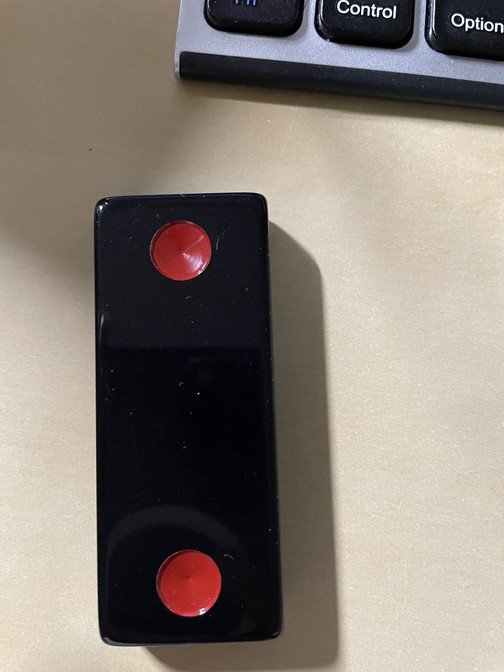earth: (95, 193, 282, 644)
